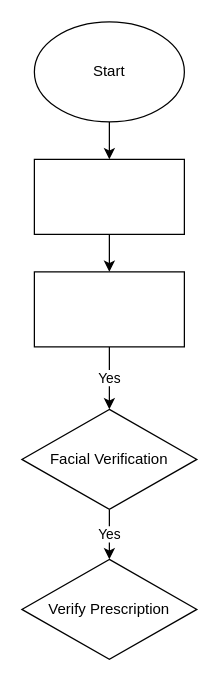
The diagram is 219 pixels wide and 681 high, and some of its shapes have lost their labels. The shapes that lost their labels are listed below. From the top down, each one's centre as x and y in pixels, then its label:
At point (108, 196): "Initialise".
At point (108, 309): "Ready for Collection".
